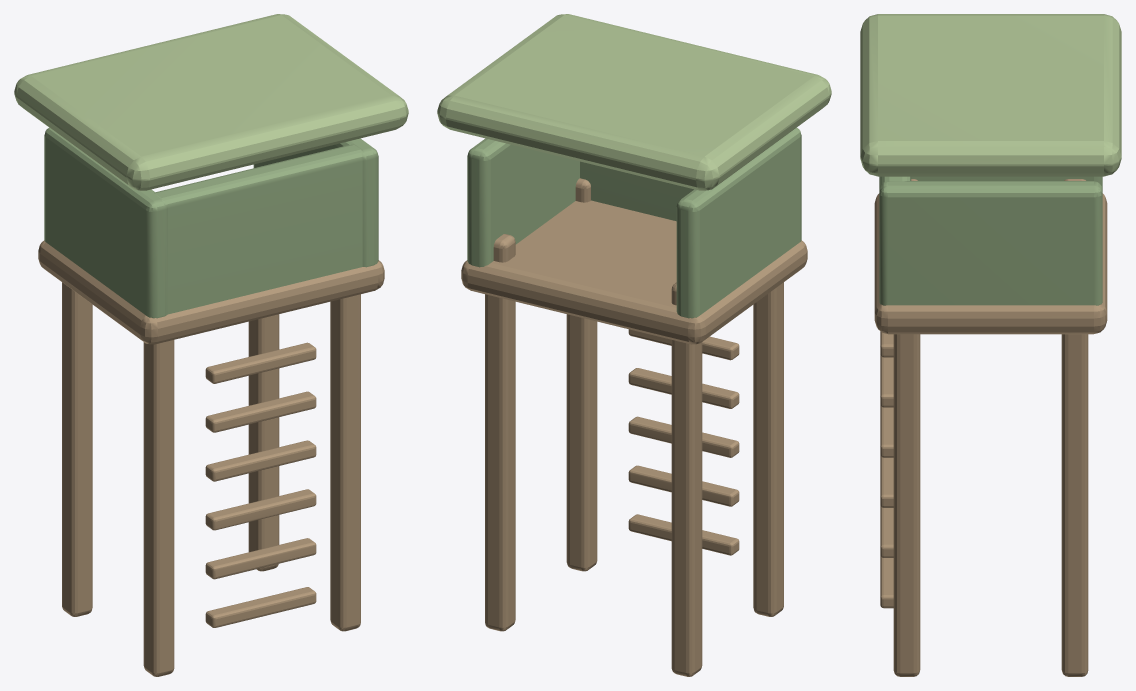
File: watchtower.glb
3 views of the same model, side by side, from view 1: azimuth 30°, elevation 25°; view 2: azimuth 150°, elevation 25°; view 3: azimuth 270°, elevation 25° (orthographic). The views are drawn at different scales.
Parts seen in each view (by area): view 1: Surface_WorldWood, Surface_WorldRoof, Surface_WorldOlive; view 2: Surface_WorldWood, Surface_WorldRoof, Surface_WorldOlive; view 3: Surface_WorldRoof, Surface_WorldWood, Surface_WorldOlive.
Boxes of the visible parts, box(x1,y1,x2,y2) form: Surface_WorldWood: box(38, 240, 384, 676); Surface_WorldRoof: box(14, 14, 408, 190); Surface_WorldOlive: box(44, 127, 378, 318); Surface_WorldWood: box(461, 178, 807, 676); Surface_WorldRoof: box(437, 14, 831, 190); Surface_WorldOlive: box(467, 127, 801, 318); Surface_WorldRoof: box(860, 14, 1121, 176); Surface_WorldWood: box(874, 179, 1107, 676); Surface_WorldOlive: box(879, 176, 1102, 305).
Bounding box in the file's own units: 1.5 × 2.74 × 1.18.
